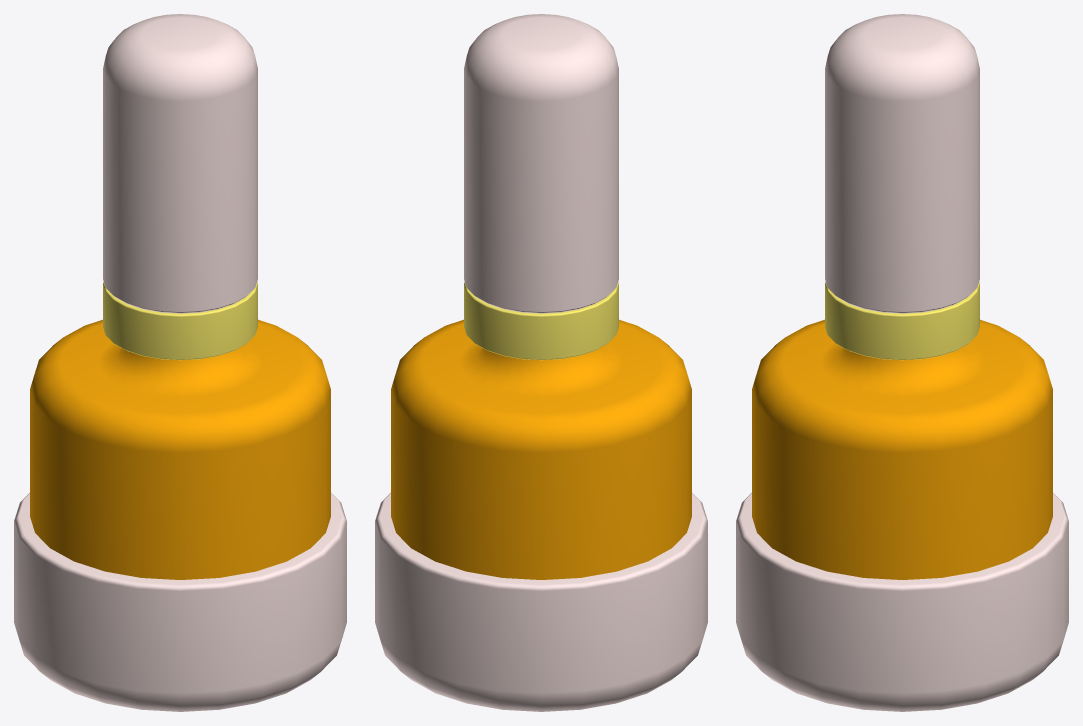
Rendered from Store_17_Nail_Varnish_4.glb.
3 renders of one model, left to right at view 1: azimuth 30°, elevation 25°; view 2: azimuth 150°, elevation 25°; view 3: azimuth 270°, elevation 25°, orthographic.
Parts seen in each view (by area): view 1: Store_17_Nail_Varnish_4; view 2: Store_17_Nail_Varnish_4; view 3: Store_17_Nail_Varnish_4.
Part boxes in pixels (left/top/right/bottom): Store_17_Nail_Varnish_4: left=14, top=14, right=346, bottom=711; Store_17_Nail_Varnish_4: left=375, top=14, right=707, bottom=711; Store_17_Nail_Varnish_4: left=736, top=14, right=1068, bottom=711.
Bounding box in the file's own units: 0.3261 × 0.6688 × 0.3261.
1 material, 1 textured.
